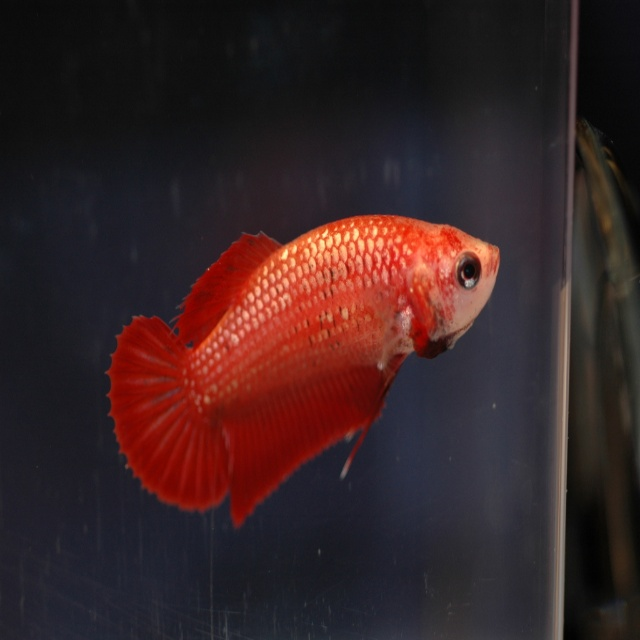Goldfish: (86, 200, 506, 558)
